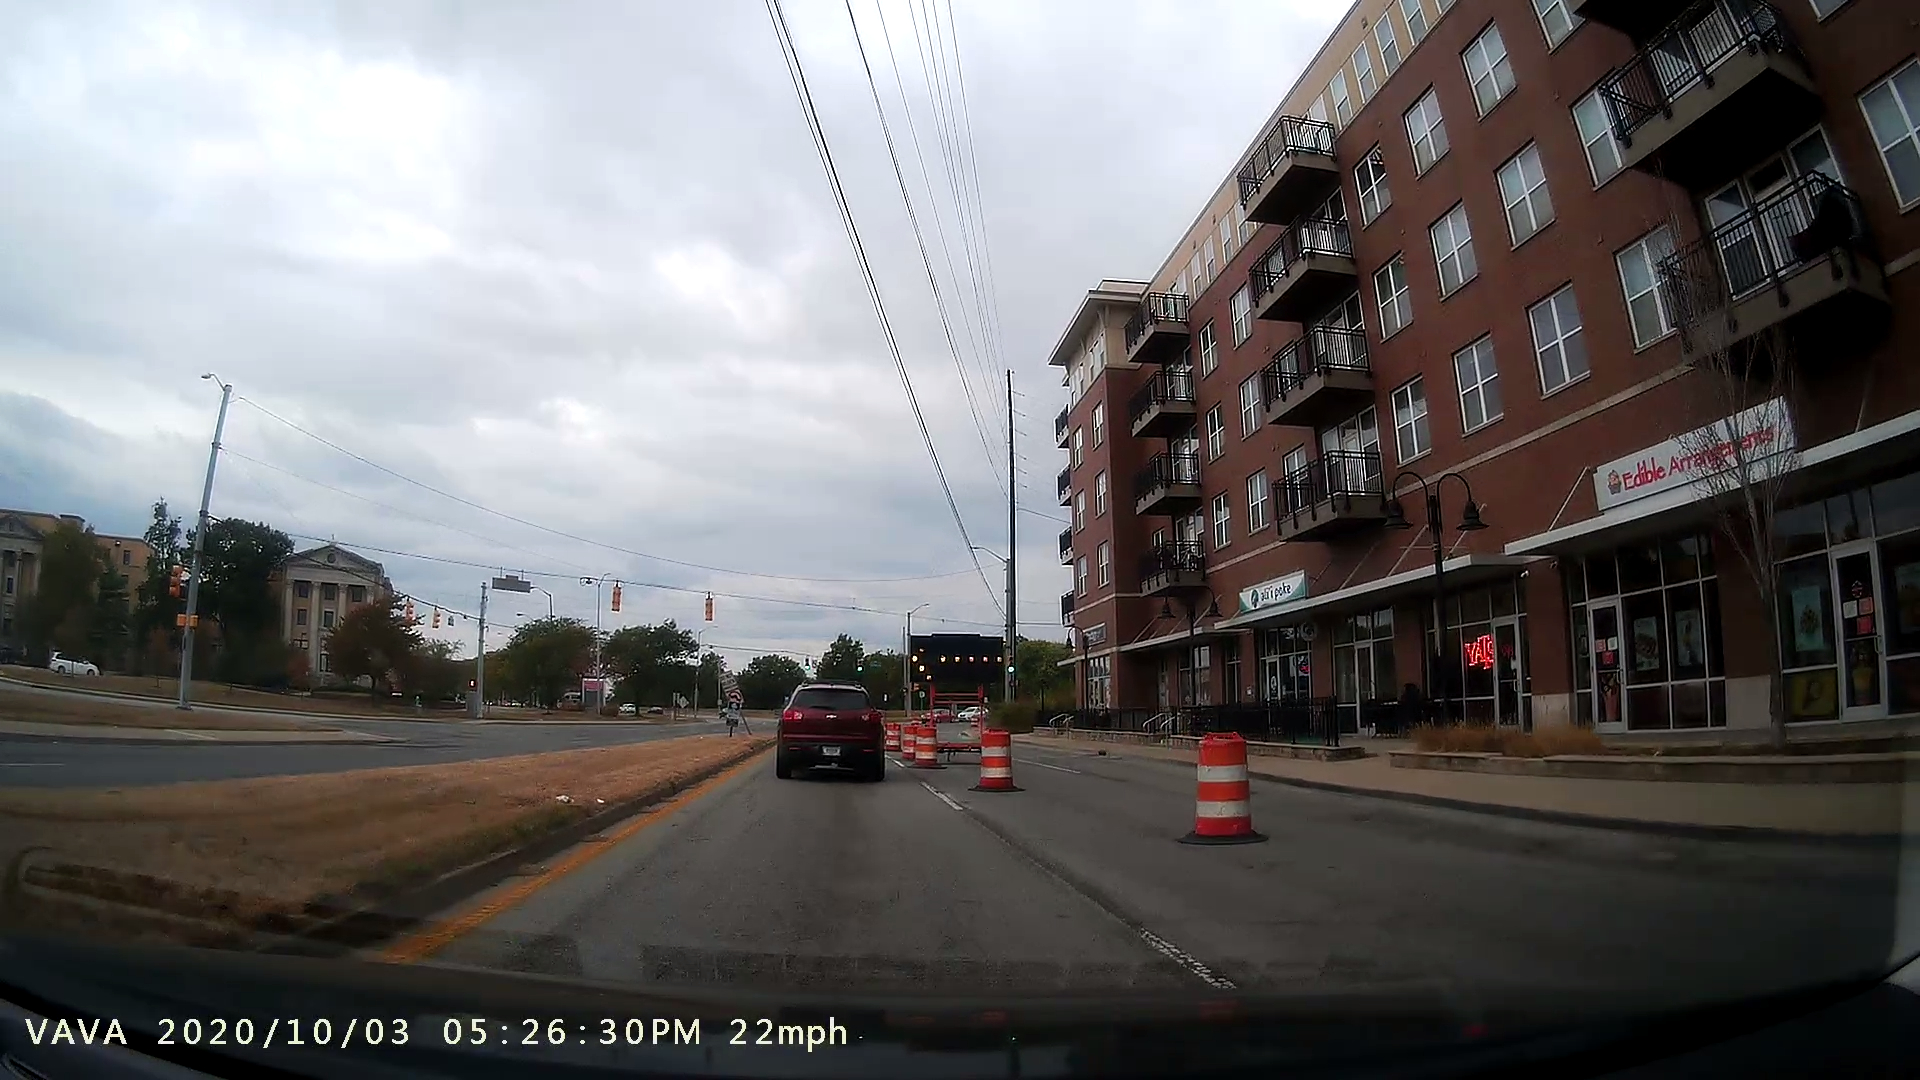const_barrel: (1164, 717, 1290, 852), (971, 723, 1033, 800), (914, 719, 938, 775)
